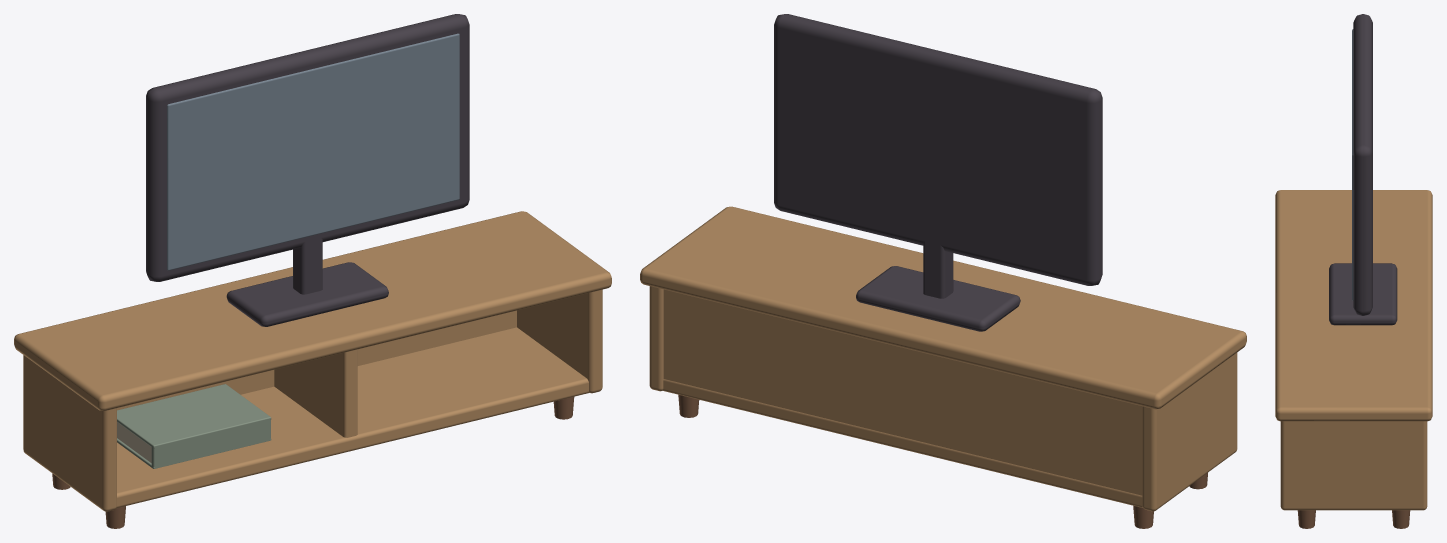
Rendered from tvunit.glb.
The picture shows the model from 3 angles, left to right: view 1: azimuth 30°, elevation 25°; view 2: azimuth 150°, elevation 25°; view 3: azimuth 270°, elevation 25°; orthographic projection. The views are drawn at different scales.
Parts seen in each view (by area): view 1: recessed-display, media-cabinet-top, media-case-base, complete-television-housing, media-case-side--1, media-folio-cover-0-241, television-stand, media-case-side-1, central-cubby-divider, media-case-back, media-folio-spine, television-stem; view 2: complete-television-housing, media-cabinet-top, media-case-back, media-case-side--1, media-case-base, television-stand, television-stem, media-case-side-1; view 3: media-cabinet-top, media-case-side-1, complete-television-housing, television-stand, recessed-display, cabinet-foot-1--1, cabinet-foot-1-1.
Boxes of the visible parts, x1,y1,x2,y2 form: recessed-display: (167, 33, 459, 270); media-cabinet-top: (14, 211, 611, 410); media-case-base: (116, 327, 589, 508); complete-television-housing: (146, 14, 469, 281); media-case-side--1: (23, 355, 116, 511); media-folio-cover-0-241: (117, 384, 271, 448); television-stand: (226, 262, 388, 326); media-case-side-1: (517, 289, 602, 393); central-cubby-divider: (274, 349, 357, 437); media-case-back: (117, 310, 516, 410); media-folio-spine: (151, 416, 270, 467); television-stem: (293, 233, 322, 294); complete-television-housing: (774, 14, 1102, 285); media-cabinet-top: (640, 206, 1246, 409); media-case-back: (663, 289, 1142, 495); media-case-side--1: (1142, 353, 1237, 511); media-case-base: (663, 379, 1142, 507); television-stand: (856, 266, 1020, 331); television-stem: (923, 221, 953, 298); media-case-side-1: (649, 286, 663, 391); media-cabinet-top: (1275, 190, 1432, 421); media-case-side-1: (1280, 421, 1427, 510); complete-television-housing: (1353, 14, 1372, 315); television-stand: (1329, 263, 1397, 325); recessed-display: (1352, 29, 1353, 300); cabinet-foot-1--1: (1392, 510, 1410, 528); cabinet-foot-1-1: (1297, 510, 1315, 528).
Size of the model in its own units: 2 by 1.47 by 0.6.
